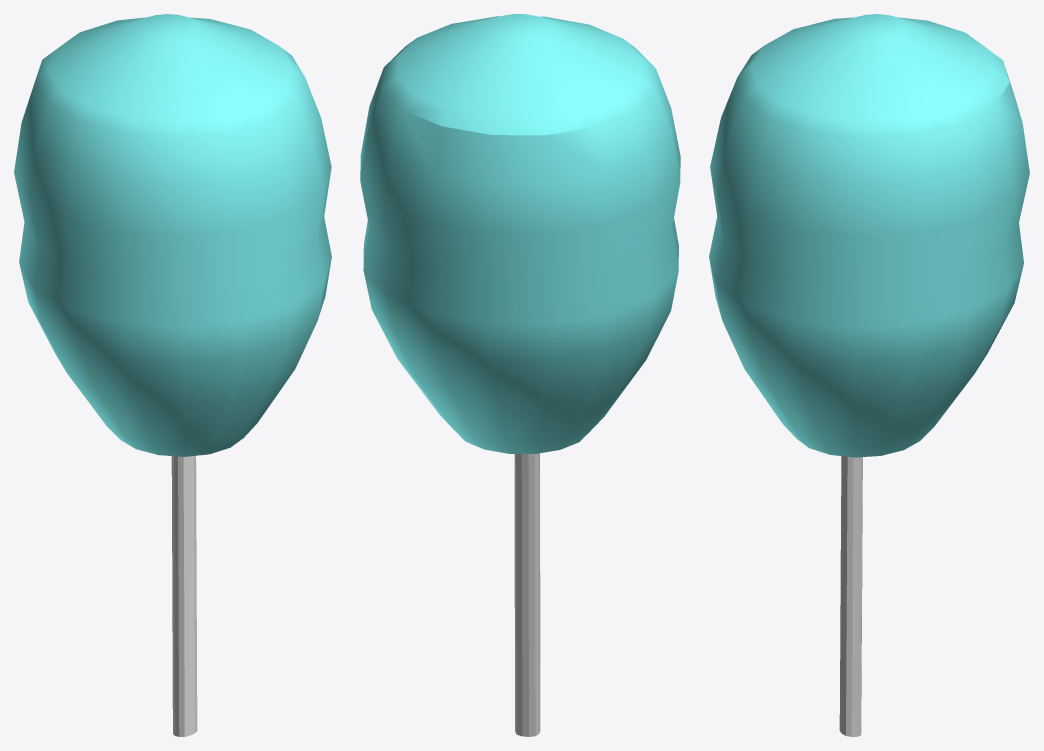
The model's file is cottonCandy.fbx.
3 views of the same model, side by side, from view 1: azimuth 30°, elevation 25°; view 2: azimuth 150°, elevation 25°; view 3: azimuth 270°, elevation 25° (orthographic). The views are drawn at different scales.
Parts seen in each view (by area): view 1: cottonCandy3; view 2: cottonCandy3; view 3: cottonCandy3.
Part boxes in pixels (x1,y1,x2,y2): cottonCandy3: (14,14,331,736); cottonCandy3: (360,14,680,736); cottonCandy3: (709,14,1029,736).
Size of the model in its own units: 0.7566 by 1.84 by 0.7591.
